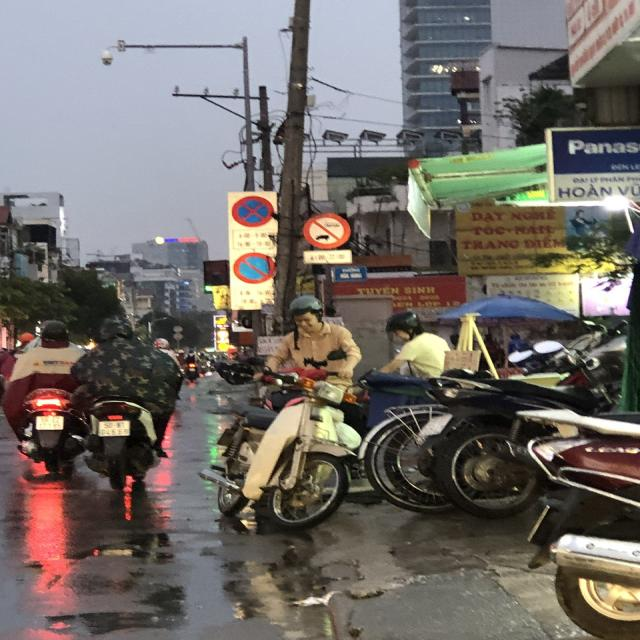Bien bao cam dung xe va do xe: (228, 194, 276, 228)
Bien bao cam xe oto khach va xe oto tai: (301, 212, 352, 250)
